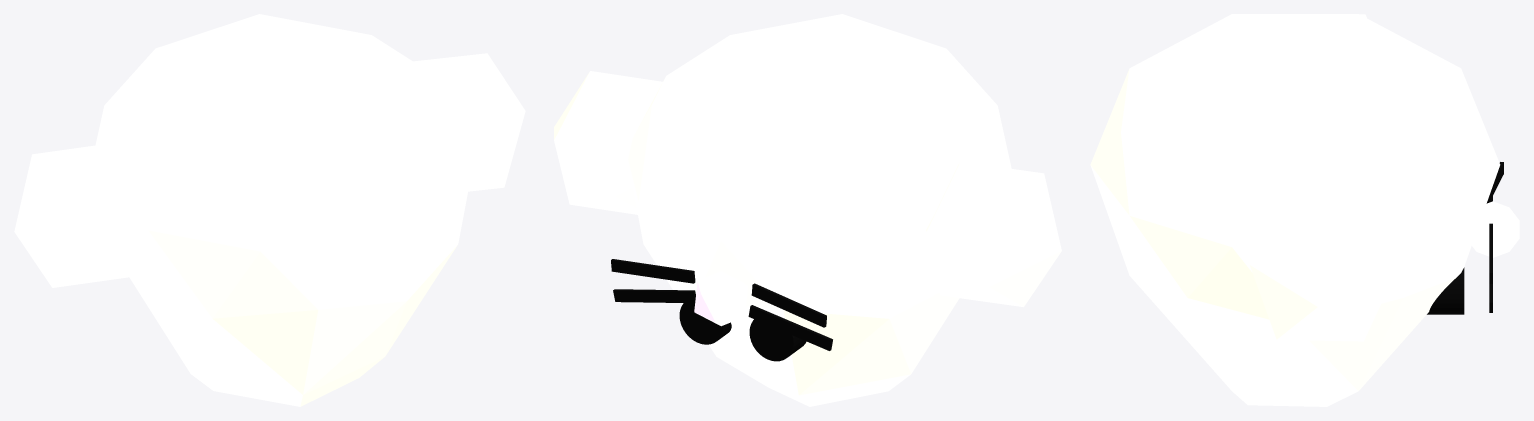
The model's file is moleblend.fbx.
The picture shows the model from 3 angles, left to right: view 1: azimuth 30°, elevation 25°; view 2: azimuth 150°, elevation 25°; view 3: azimuth 270°, elevation 25°; orthographic projection. The views are drawn at different scales.
Visible parts, largest first — view 1: Icosphere, Icosphere.002, Icosphere.003; view 2: Icosphere, Icosphere.002, Icosphere.003, Icosphere.001, Cylinder.001, Cylinder, Cube.002, Cube.001, Cube, Cube.003; view 3: Icosphere, Icosphere.003, Icosphere.001, Cylinder.
Part boxes in pixels (x1=…): Icosphere: x1=95, y1=14, x2=475, y2=406; Icosphere.002: x1=14, y1=142, x2=139, y2=287; Icosphere.003: x1=413, y1=53, x2=525, y2=191; Icosphere: x1=628, y1=14, x2=1011, y2=406; Icosphere.002: x1=926, y1=161, x2=1061, y2=307; Icosphere.003: x1=554, y1=71, x2=662, y2=214; Icosphere.001: x1=694, y1=271, x2=747, y2=326; Cylinder.001: x1=749, y1=319, x2=806, y2=361; Cylinder: x1=679, y1=303, x2=731, y2=344; Cube.002: x1=748, y1=305, x2=832, y2=350; Cube.001: x1=611, y1=259, x2=695, y2=283; Cube: x1=613, y1=289, x2=695, y2=303; Cube.003: x1=751, y1=283, x2=826, y2=327; Icosphere: x1=1090, y1=14, x2=1500, y2=406; Icosphere.003: x1=1250, y1=200, x2=1393, y2=341; Icosphere.001: x1=1472, y1=201, x2=1519, y2=257; Cylinder: x1=1427, y1=267, x2=1464, y2=314.
Size of the model in its own units: 1936 by 1289 by 1372.
